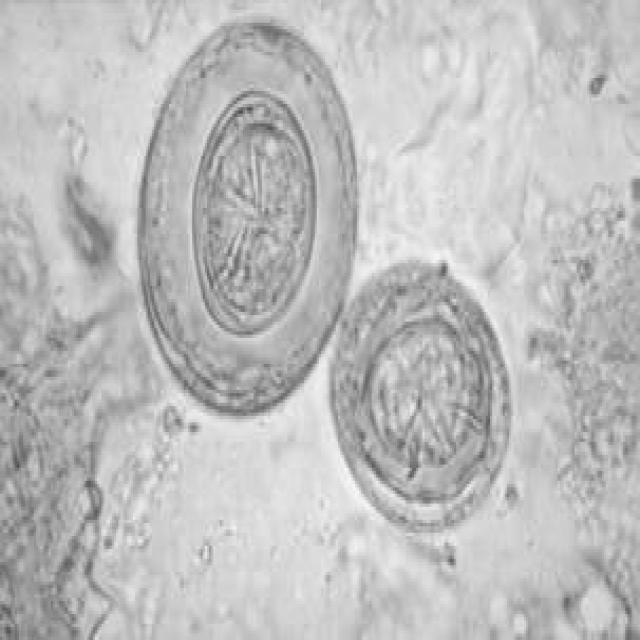Hymenolepis: (128, 12, 362, 430), (328, 248, 518, 541)
